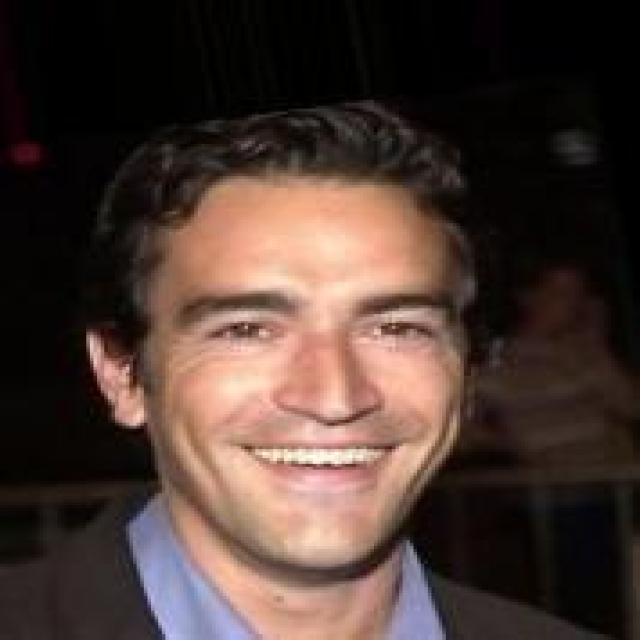bareface: (166, 208, 468, 549)
